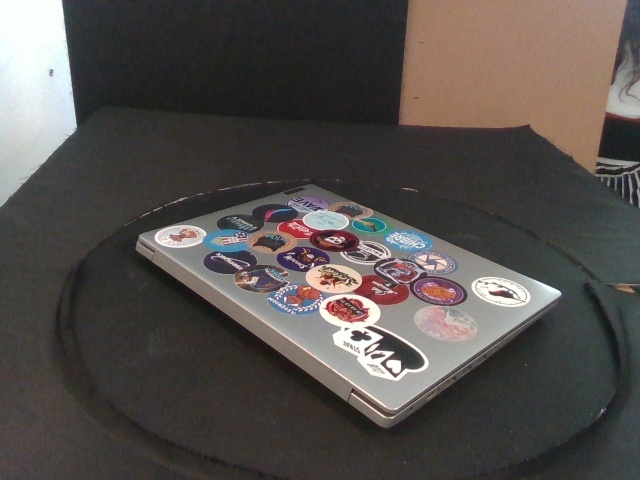laptop: (136, 182, 564, 430)
